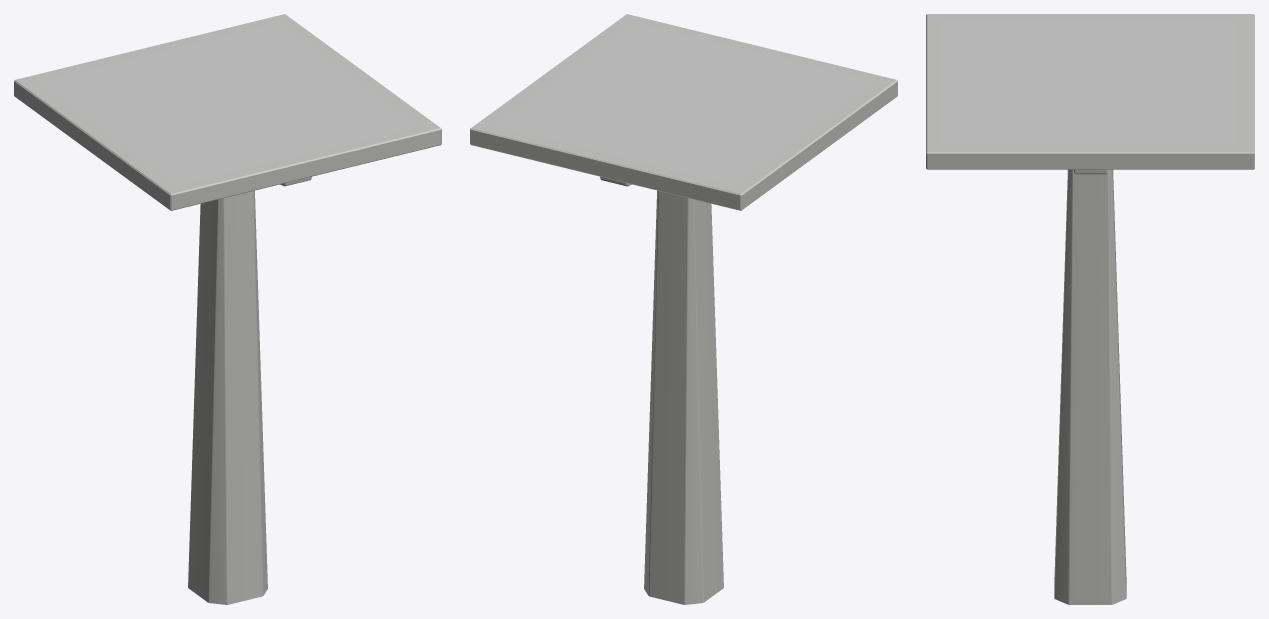
Rendered from PlatformLarge.fbx.
3 views of the same model, side by side, from view 1: azimuth 30°, elevation 25°; view 2: azimuth 150°, elevation 25°; view 3: azimuth 270°, elevation 25° (orthographic). The views are drawn at different scales.
Visible parts, largest first — view 1: PlatformLarge; view 2: PlatformLarge; view 3: PlatformLarge.
Boxes of the visible parts, x1,y1,x2,y2 form: PlatformLarge: (14, 14, 441, 604); PlatformLarge: (470, 14, 897, 604); PlatformLarge: (926, 14, 1254, 604).
Bounding box in the file's own units: 500 × 850 × 500.
